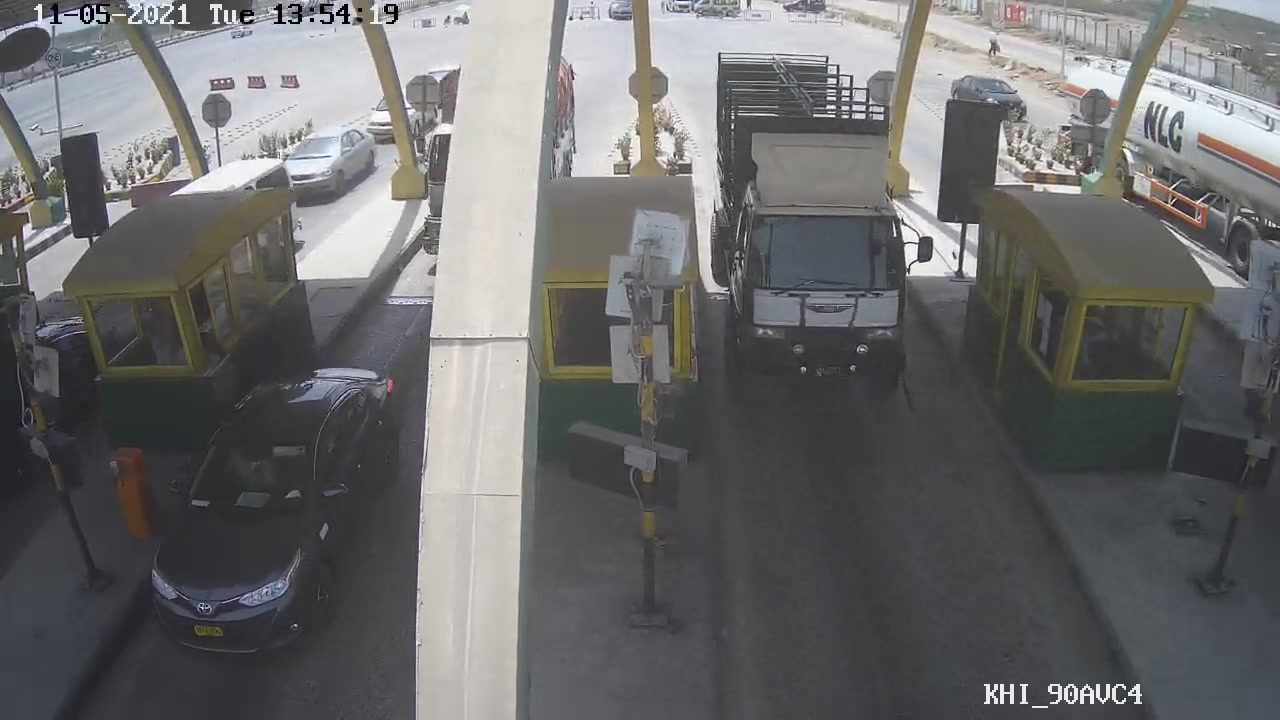F5: (713, 41, 929, 376)
